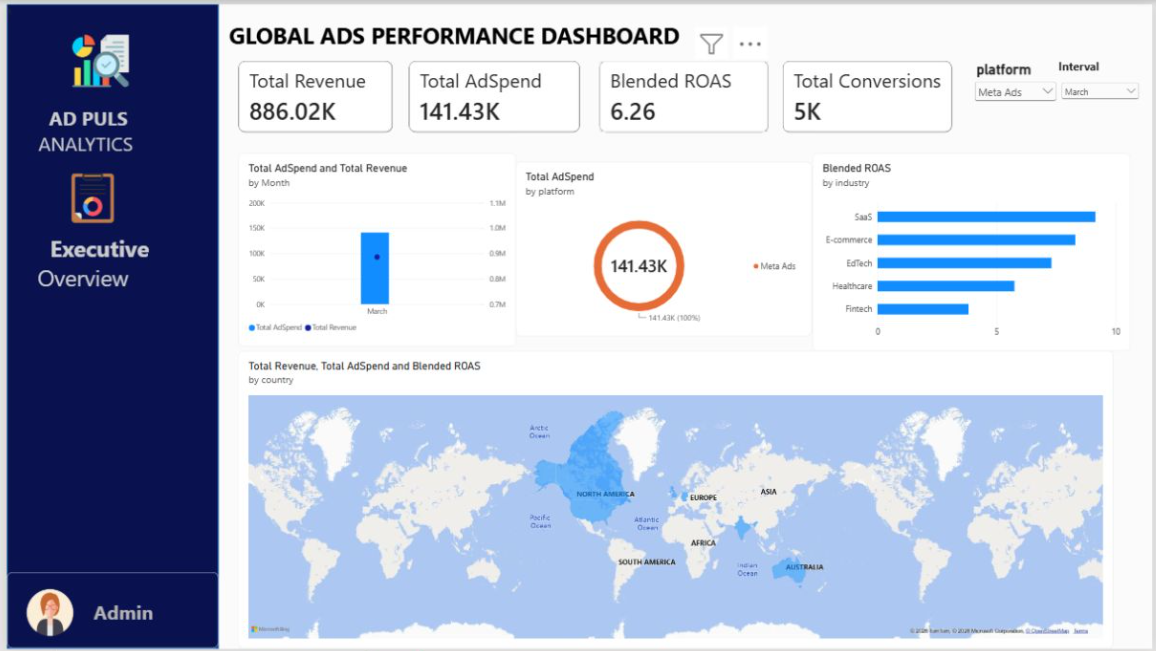

The dashboard page shown, as its layout file describes it:
{"tool":"powerbi","page":{"name":"global_ads_performance_dataset","canvas":[1920,1080],"ordinal":0},"visuals":[{"type":"shape","box":[0,0,354.3,1080],"z":0},{"type":"textbox","box":[0,0,354.3,1080],"z":1000},{"type":"image","box":[82.2,45.4,147.4,99.2],"z":2000},{"type":"image","box":[56.7,280.6,172.9,87.9],"z":3000},{"type":"textbox","box":[0,952.4,354.3,127.6],"z":4000},{"type":"image","box":[0,975.1,144.6,87.9],"z":5000},{"type":"textbox","box":[144.6,997.8,172.9,65.2],"z":6000},{"type":"textbox","box":[362.8,25.5,813.5,70.9],"z":7000},{"type":"cardVisual","title":"Total Revenue","fields":{"Data":["global_ads_performance_dataset.Total Revenue"]},"box":[388.3,96.4,258,119.1],"z":8000},{"type":"cardVisual","fields":{"Data":["global_ads_performance_dataset.Total AdSpend"]},"box":[674.7,96.4,286.3,119.1],"z":9000},{"type":"cardVisual","fields":{"Data":["global_ads_performance_dataset.Blended ROAS"]},"box":[992.1,96.4,283.5,119.1],"z":10000},{"type":"cardVisual","fields":{"Data":["global_ads_performance_dataset.Total Conversions"]},"box":[1301.1,96.4,283.5,119.1],"z":11000},{"type":"lineClusteredColumnComboChart","fields":{"Category":["global_ads_performance_dataset.date.Variation.Date Hierarchy.Month"],"Y":["global_ads_performance_dataset.Total AdSpend"],"Y2":["global_ads_performance_dataset.Total Revenue"]},"box":[388.3,249.5,464.9,323.2],"z":12000},{"type":"donutChart","fields":{"Category":["global_ads_performance_dataset.platform"],"Y":["global_ads_performance_dataset.Total AdSpend"]},"box":[853.2,263.6,496.1,292],"z":13000},{"type":"clusteredBarChart","fields":{"Category":["global_ads_performance_dataset.industry"],"Y":["global_ads_performance_dataset.Blended ROAS"]},"box":[1349.3,249.5,532.9,331.7],"z":14000},{"type":"filledMap","fields":{"Category":["global_ads_performance_dataset.country"]},"box":[388.3,581.1,1465.5,498.9],"z":15000},{"type":"slicer","fields":{"Values":["global_ads_performance_dataset.platform"]},"box":[1616.3,95.3,146.5,81.4],"z":16000},{"type":"slicer","fields":{"Values":["global_ads_performance_dataset.date.Variation.Date Hierarchy.Month"]},"box":[1762.8,125.6,139.5,39.5],"z":17000},{"type":"textbox","box":[1762.8,90.7,139.5,34.9],"z":18000}]}

Visuals, with their boxes in screenshot pixels (x1, y1, x2, y2), scaled from the page's 1920x1080 canvas onto the 1156x651 screenshot:
shape: bbox=(0, 0, 213, 650)
textbox: bbox=(0, 0, 213, 650)
image: bbox=(49, 27, 138, 87)
image: bbox=(34, 169, 138, 222)
textbox: bbox=(0, 574, 213, 650)
image: bbox=(0, 588, 87, 641)
textbox: bbox=(87, 601, 191, 641)
textbox: bbox=(218, 15, 708, 58)
"Total Revenue" cardVisual: bbox=(234, 58, 389, 130)
cardVisual - global_ads_performance_dataset.Total AdSpend: bbox=(406, 58, 579, 130)
cardVisual - global_ads_performance_dataset.Blended ROAS: bbox=(597, 58, 768, 130)
cardVisual - global_ads_performance_dataset.Total Conversions: bbox=(783, 58, 954, 130)
lineClusteredColumnComboChart - global_ads_performance_dataset.date.Variation.Date Hierarchy.Month x global_ads_performance_dataset.Total AdSpend: bbox=(234, 150, 514, 345)
donutChart - global_ads_performance_dataset.platform x global_ads_performance_dataset.Total AdSpend: bbox=(514, 159, 812, 335)
clusteredBarChart - global_ads_performance_dataset.industry x global_ads_performance_dataset.Blended ROAS: bbox=(812, 150, 1133, 350)
filledMap - global_ads_performance_dataset.country: bbox=(234, 350, 1116, 650)
slicer - global_ads_performance_dataset.platform: bbox=(973, 57, 1061, 107)
slicer - global_ads_performance_dataset.date.Variation.Date Hierarchy.Month: bbox=(1061, 76, 1145, 100)
textbox: bbox=(1061, 55, 1145, 76)
